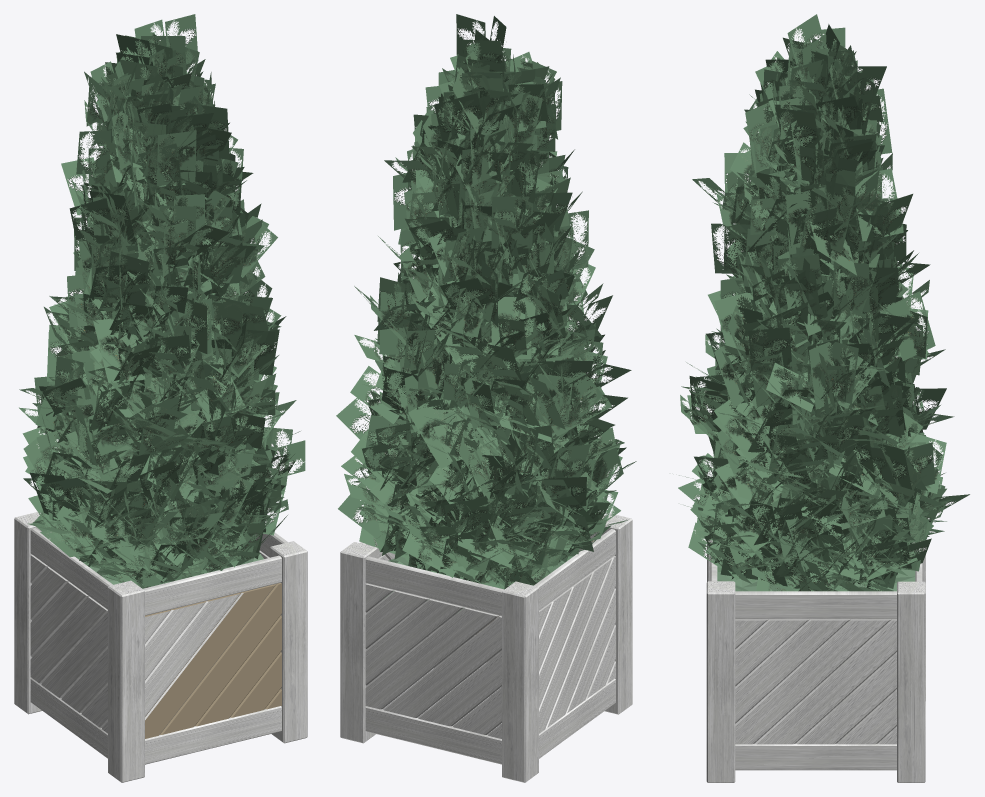
The model's file is arbolCaja2.FBX.
The picture shows the model from 3 angles, left to right: view 1: azimuth 30°, elevation 25°; view 2: azimuth 150°, elevation 25°; view 3: azimuth 270°, elevation 25°; orthographic projection.
Visible parts, largest first — view 1: object; view 2: object; view 3: object.
Part boxes in pixels (bbox=[...]): object: bbox=[14, 14, 307, 782]; object: bbox=[336, 14, 636, 782]; object: bbox=[678, 14, 969, 782].
Size of the model in its own units: 1.13 by 2.88 by 1.12.
